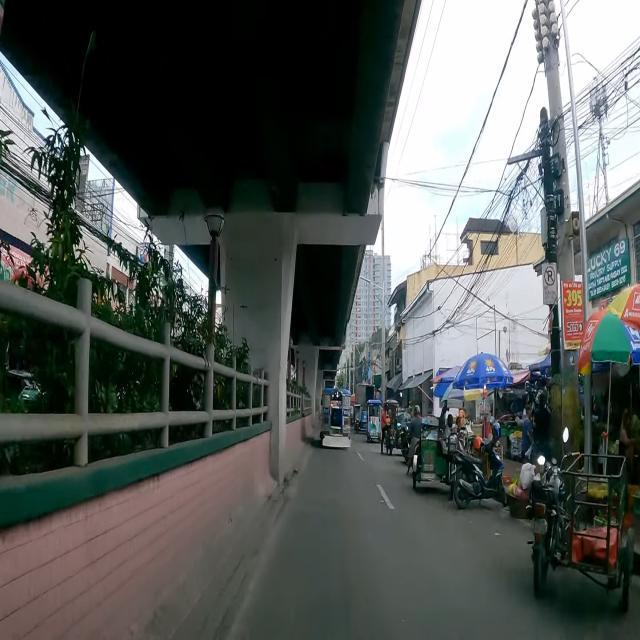jeepney: (321, 388, 351, 447)
motorcycle: (452, 422, 509, 510)
tricycle: (531, 426, 632, 614), (412, 398, 459, 500), (384, 400, 412, 454), (354, 404, 367, 434)
truck: (354, 382, 376, 405)
